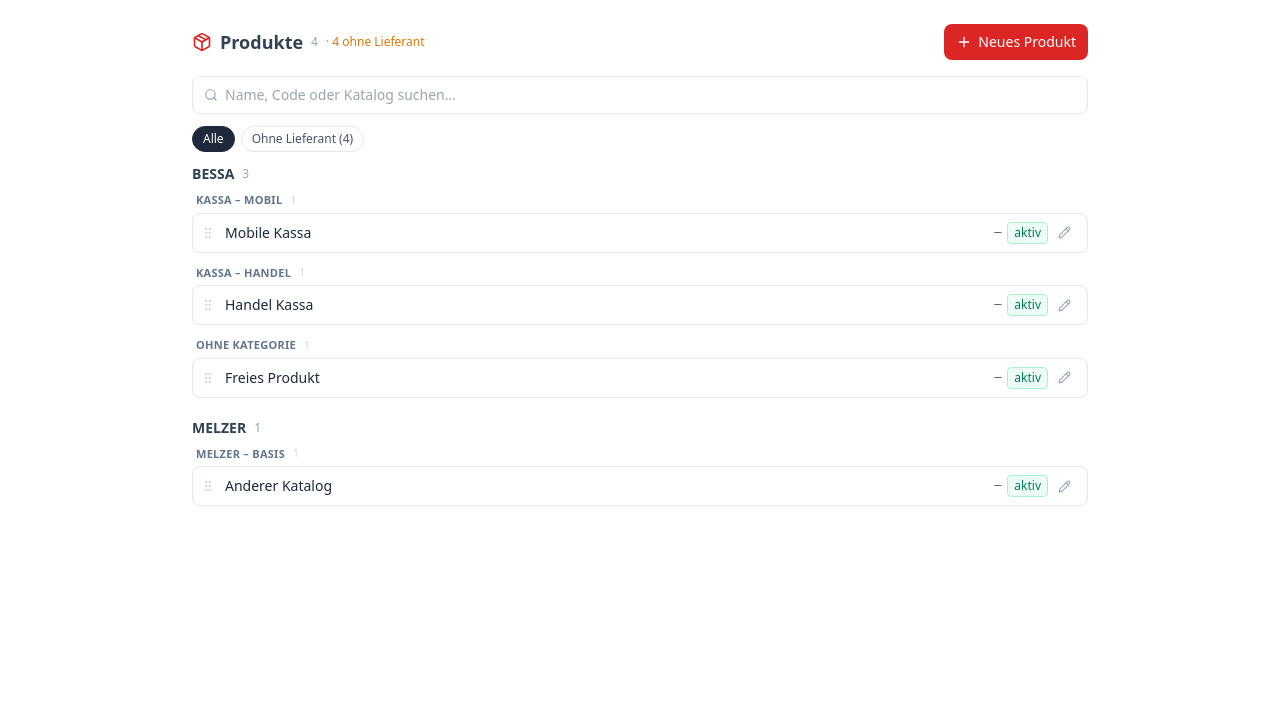
Test: ProductsAdminPage — Jarltech SKU lookup › abgleichen reports no-match per supplier
The image size is (1280, 720).
Click the button named "Bearbeiten" in the row of "Mobile Kassa".
click(1064, 232)  # box [1054,222,1075,243]
(page scrolled)
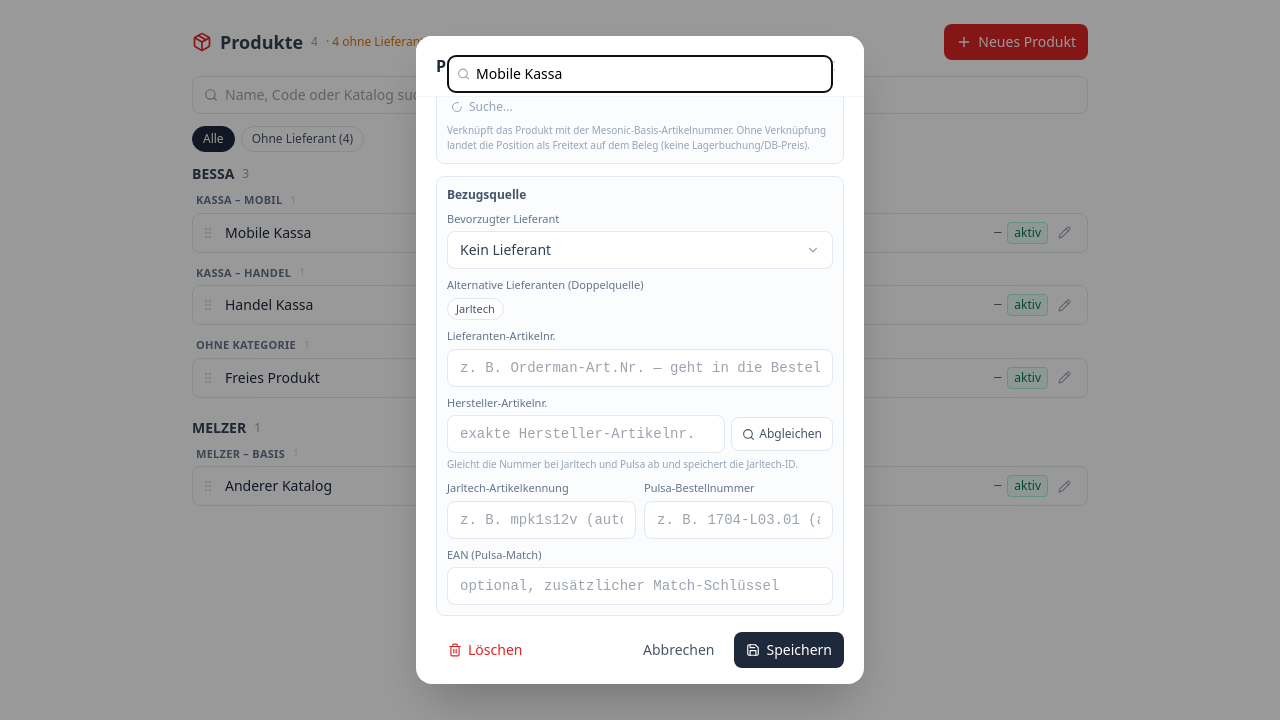
Type "UNKNOWN-SKU" into the field with placeholder "exakte Hersteller-Artikelnr.".
click(586, 434); type("UNKNOWN-SKU")  # box [447,415,725,453]
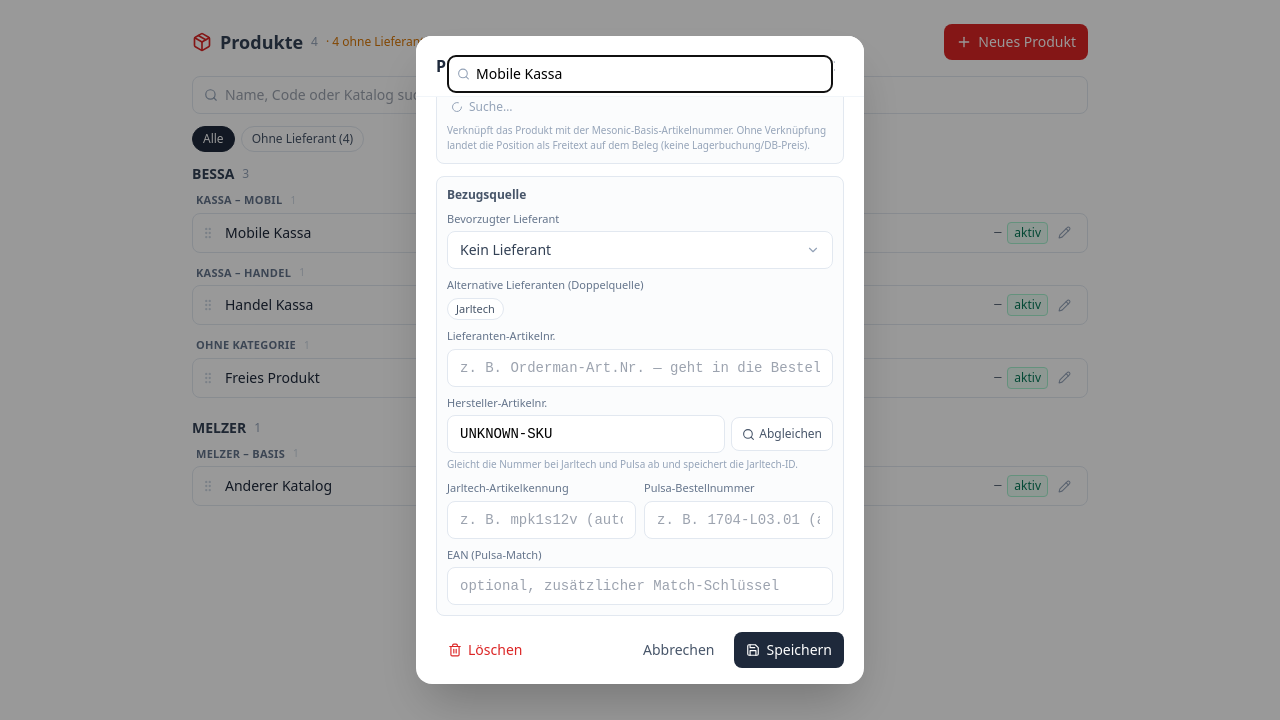
Click the button "Abgleichen".
click(782, 434)  # box [731,417,833,451]
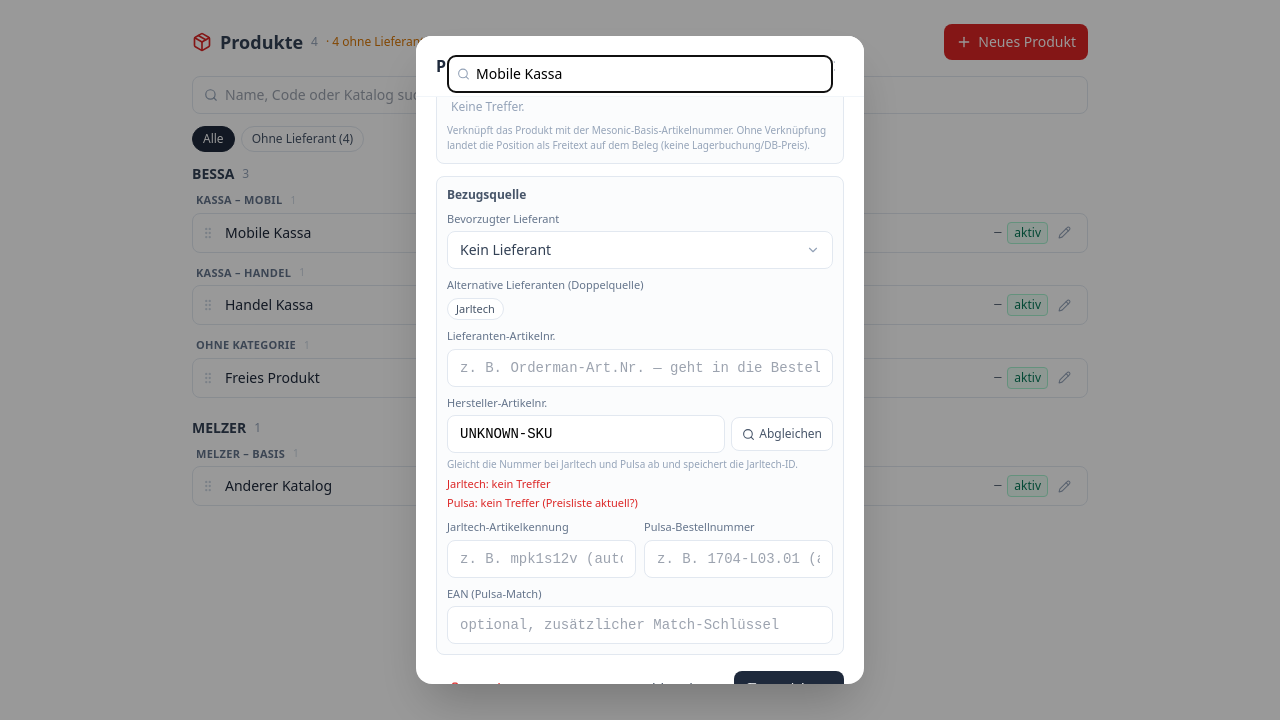
Expected: the text "Jarltech: kein Treffer" is shown, [447,476,551,491]
Expected: the text "Pulsa: kein Treffer (Preisliste aktuell?)" is shown, [447,494,638,510]
